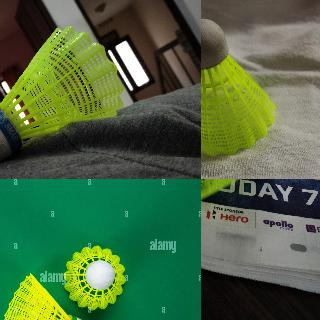shuttlecock: (0, 26, 123, 163), (201, 18, 276, 155), (1, 273, 88, 319), (64, 246, 126, 310)
